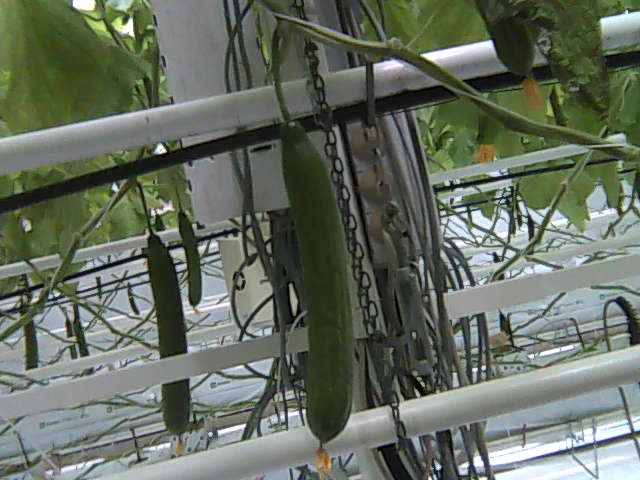concombre: (273, 112, 357, 475)
